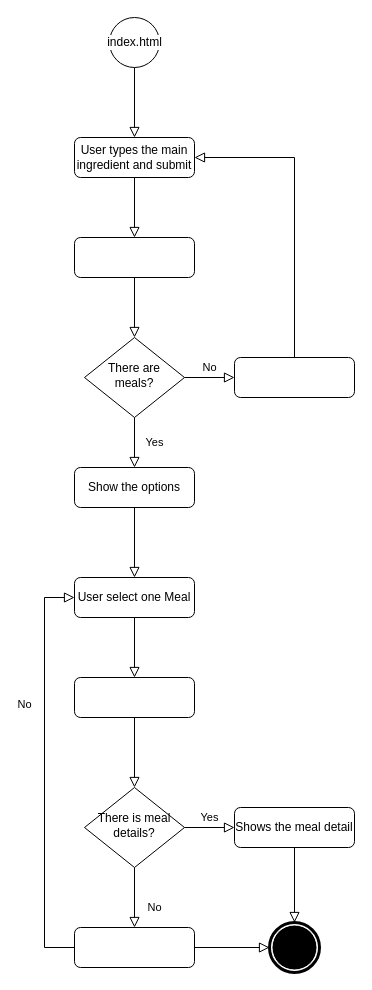
This 372x990 diagram has some shape labels left out. The shapes that lost their labels are listed below. From the top down, each one's centre as x and y in pixels, then its label:
At (x=134, y=257): "Fetch meals with that".
At (x=294, y=377): "Ask to user type another ingredient".
At (x=134, y=697): "Fetch the meal details".
At (x=134, y=947): "Say sorry".
